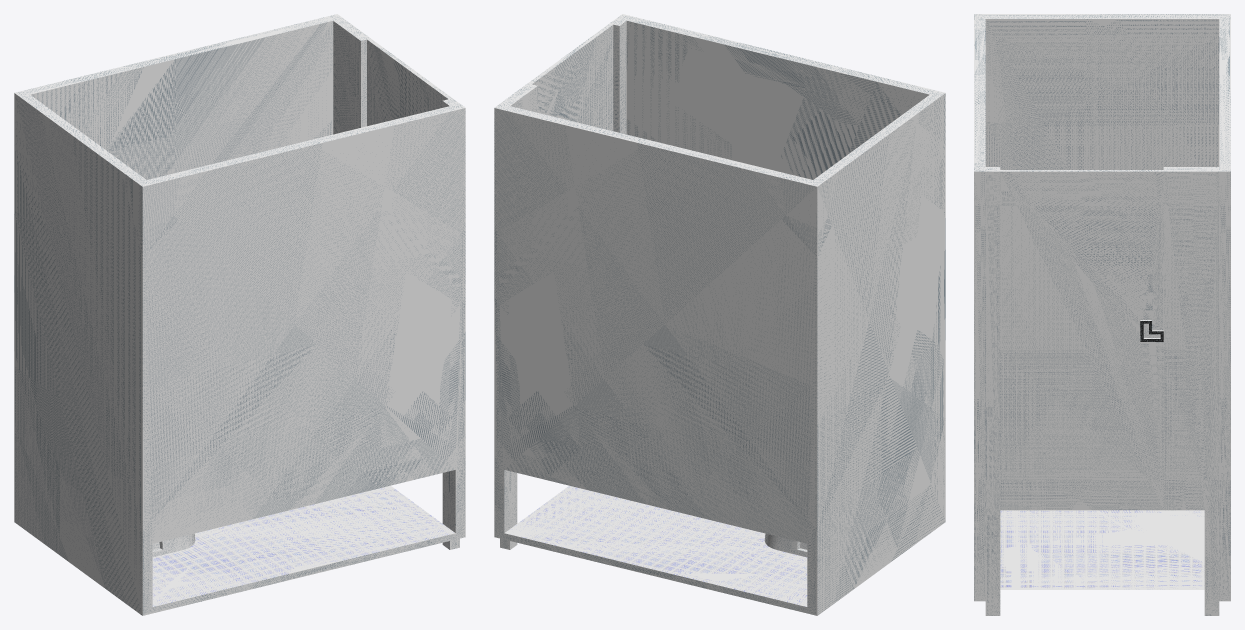
File: banheiro.dae
3 renders of one model, left to right at view 1: azimuth 30°, elevation 25°; view 2: azimuth 150°, elevation 25°; view 3: azimuth 270°, elevation 25°, orthographic.
Visible parts, largest first — view 1: SketchUp (×2), group_0 (×2), group_1; view 2: SketchUp (×2), group_1, group_0 (×2); view 3: SketchUp (×2), group_1, group_0 (×2).
Boxes of the visible parts, x1=… form: SketchUp (×2): x1=14, y1=14, x2=465, y2=615; group_0 (×2): x1=333, y1=18, x2=459, y2=549; group_1: x1=367, y1=38, x2=451, y2=126; SketchUp (×2): x1=494, y1=14, x2=945, y2=615; group_1: x1=528, y1=23, x2=613, y2=130; group_0 (×2): x1=500, y1=18, x2=626, y2=549; SketchUp (×2): x1=974, y1=14, x2=1230, y2=601; group_1: x1=1000, y1=170, x2=1163, y2=510; group_0 (×2): x1=985, y1=167, x2=1219, y2=615.
Bounding box in the file's own units: 0.6339 × 0.4331 × 0.8268.
